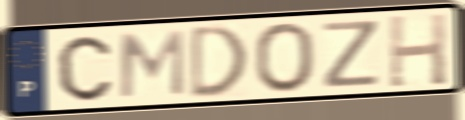C: (54, 33, 114, 104)
D: (188, 22, 250, 102)
H: (386, 11, 449, 91)
M: (116, 27, 187, 100)
O: (251, 20, 317, 95)
Z: (321, 18, 383, 91)
